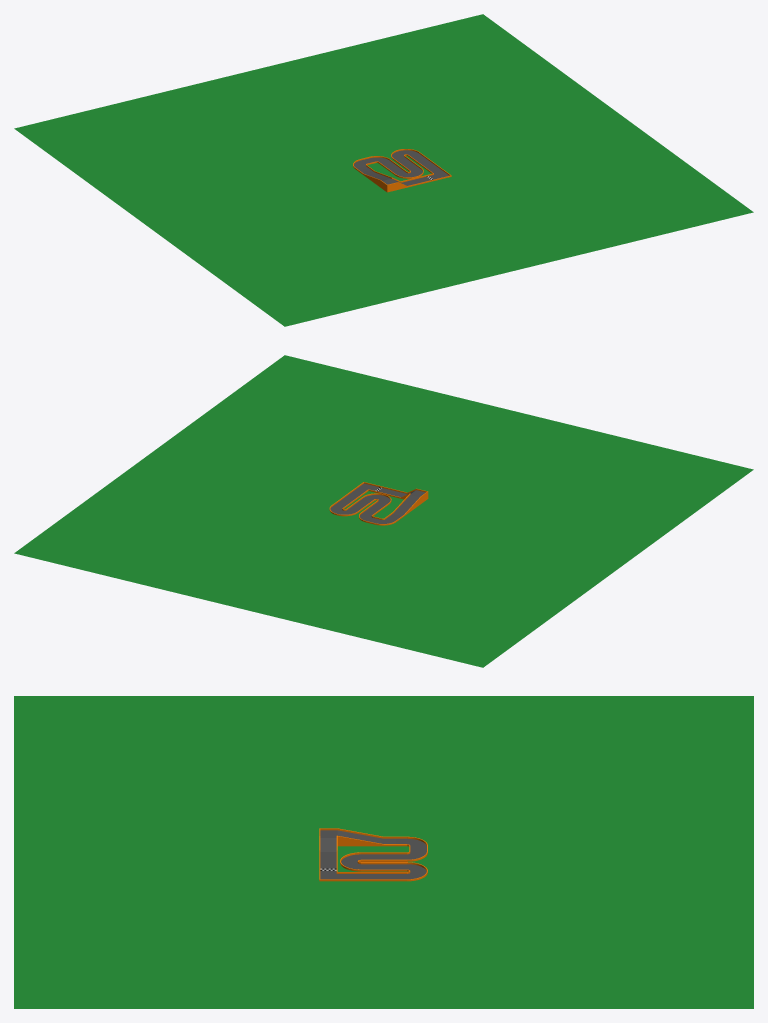
File: Stage.fbx
3 renders of one model, top to bottom at view 1: azimuth 30°, elevation 25°; view 2: azimuth 150°, elevation 25°; view 3: azimuth 270°, elevation 25°, orthographic. The views are drawn at different scales.
Parts seen in each view (by area): view 1: Stage; view 2: Stage; view 3: Stage.
Boxes of the visible parts, <box> form: Stage: <box>14,14,753,326</box>; Stage: <box>14,355,753,667</box>; Stage: <box>14,696,753,1008</box>.
Bounding box in the file's own units: 16000 × 250 × 16000.
